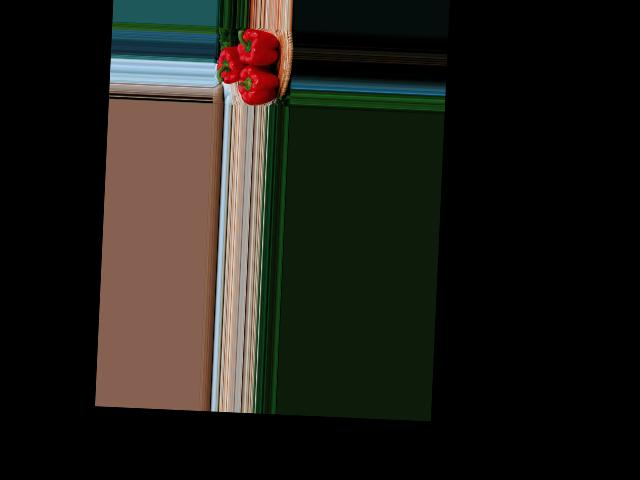bell_pepper: (235, 28, 285, 72)
